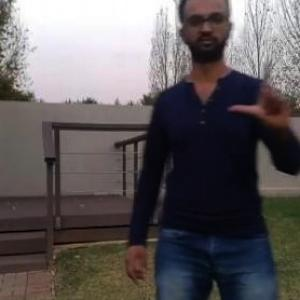land_hand: (227, 47, 299, 134)
